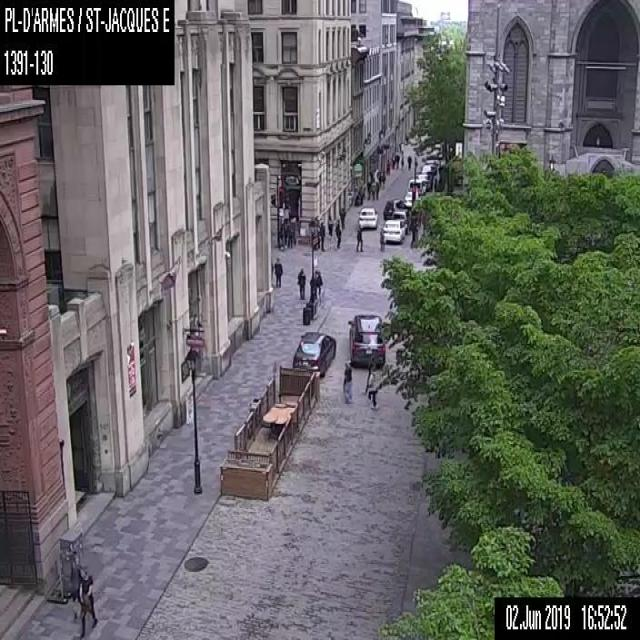pedestrian: (76, 565, 96, 639), (365, 364, 377, 408), (342, 360, 351, 403), (354, 223, 364, 252), (296, 265, 304, 299), (313, 270, 322, 298), (274, 256, 282, 287), (285, 218, 293, 248), (318, 220, 325, 250), (335, 217, 341, 248), (339, 206, 346, 229), (378, 227, 384, 251), (327, 215, 332, 238), (370, 178, 375, 200), (394, 152, 399, 170), (406, 153, 411, 170), (375, 180, 379, 200), (381, 169, 385, 189), (366, 179, 370, 199), (385, 158, 389, 175), (390, 152, 394, 168), (400, 154, 403, 169)
vehicle: (346, 312, 384, 368), (292, 330, 336, 378), (382, 198, 408, 220), (356, 205, 378, 229), (383, 219, 404, 244), (391, 208, 411, 232), (406, 178, 425, 195), (415, 173, 431, 189), (403, 190, 418, 206), (424, 158, 436, 174), (421, 164, 433, 177)
